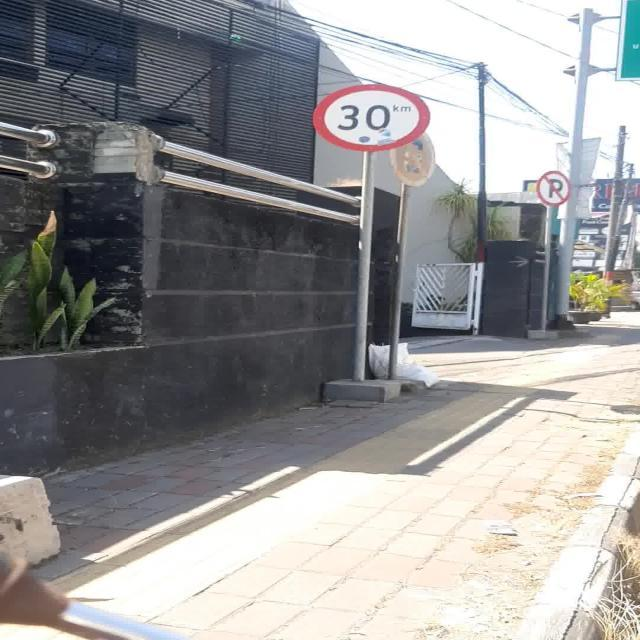Kecepatan Maks. 30 km: (312, 83, 431, 151)
